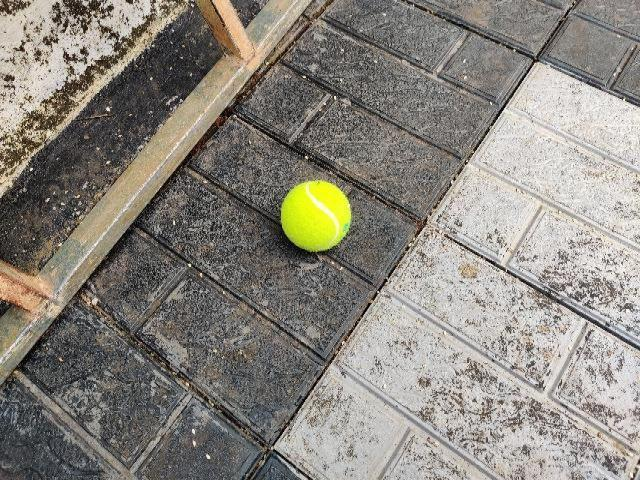tennis-ball: (278, 179, 352, 251)
